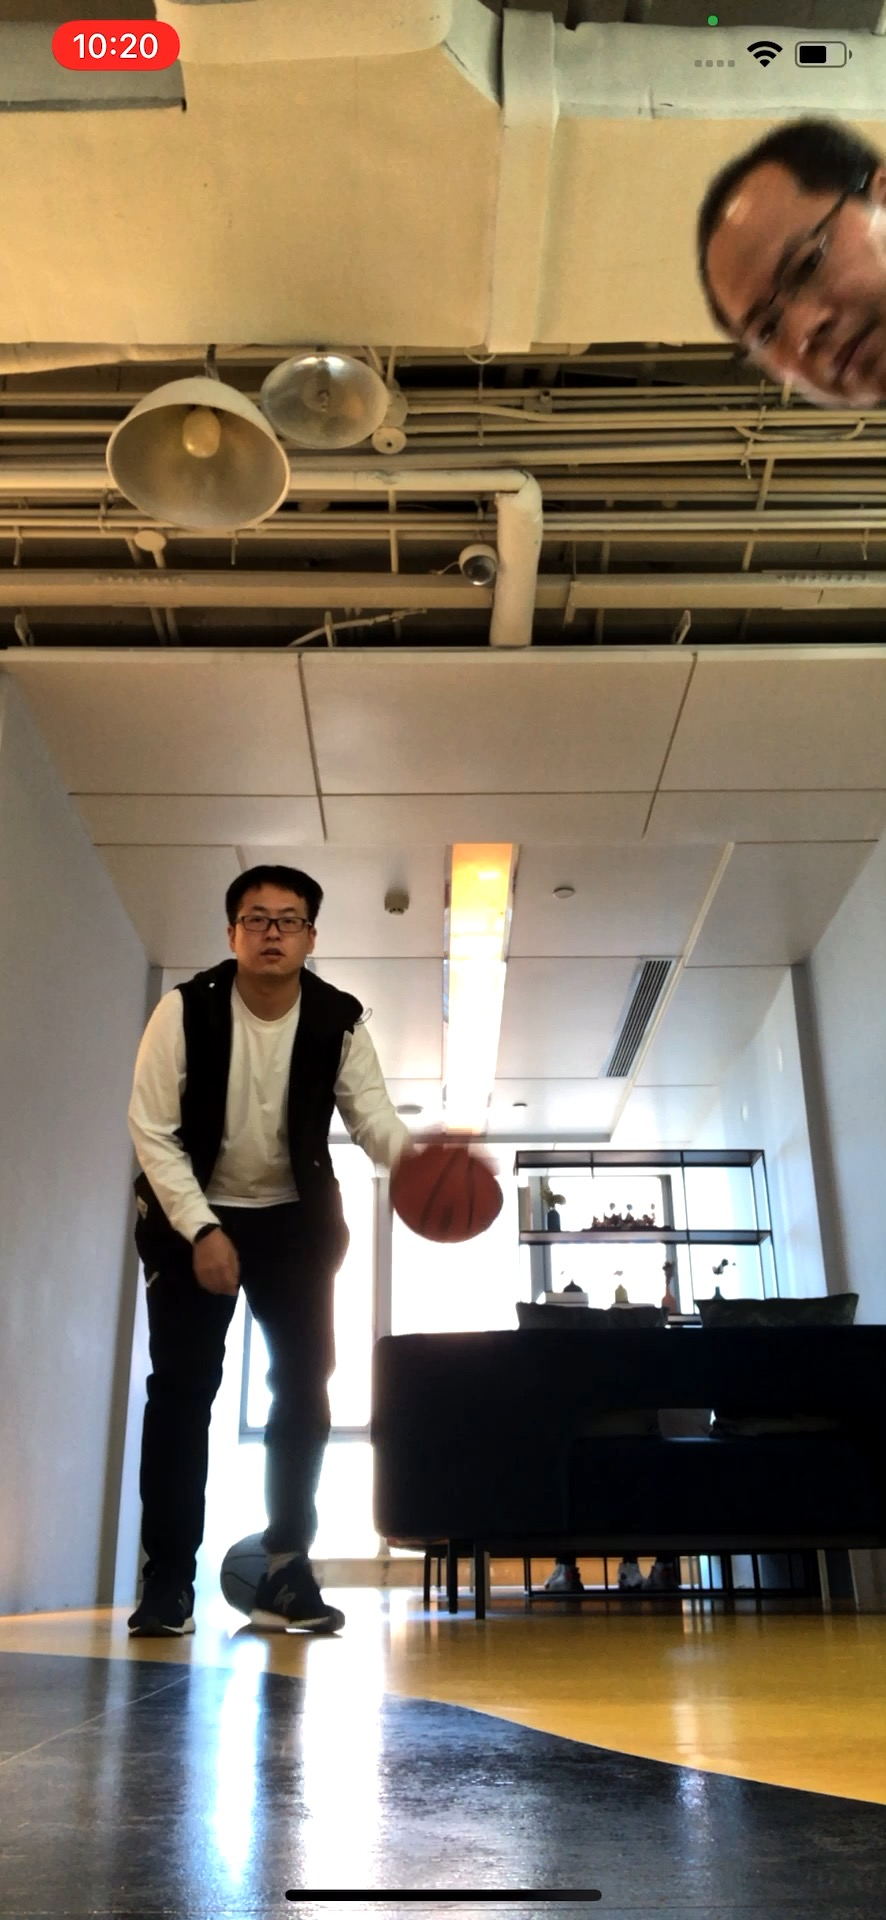ball: (394, 1135, 504, 1251), (225, 1533, 303, 1616)
